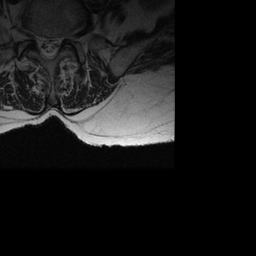CCS_normal: (45, 28, 52, 66)
LFS_stenosis: (60, 26, 70, 48)
LLS_normal: (52, 28, 60, 58)
RFS_stenosis: (27, 23, 36, 47)
RLS_normal: (36, 27, 45, 60)
